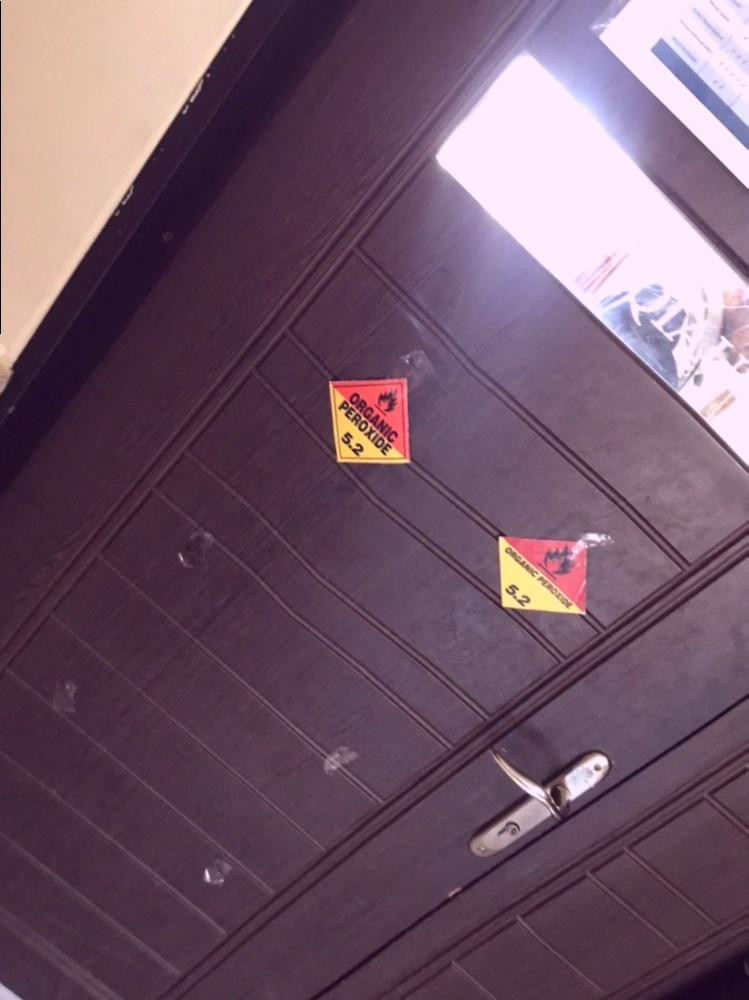organic-peroxide: (324, 378, 416, 473), (498, 535, 590, 621)
